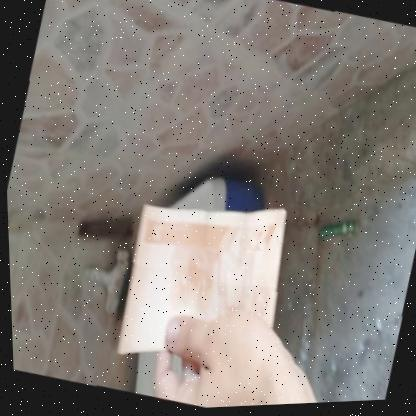twenty-back-vef: (105, 177, 299, 391)
